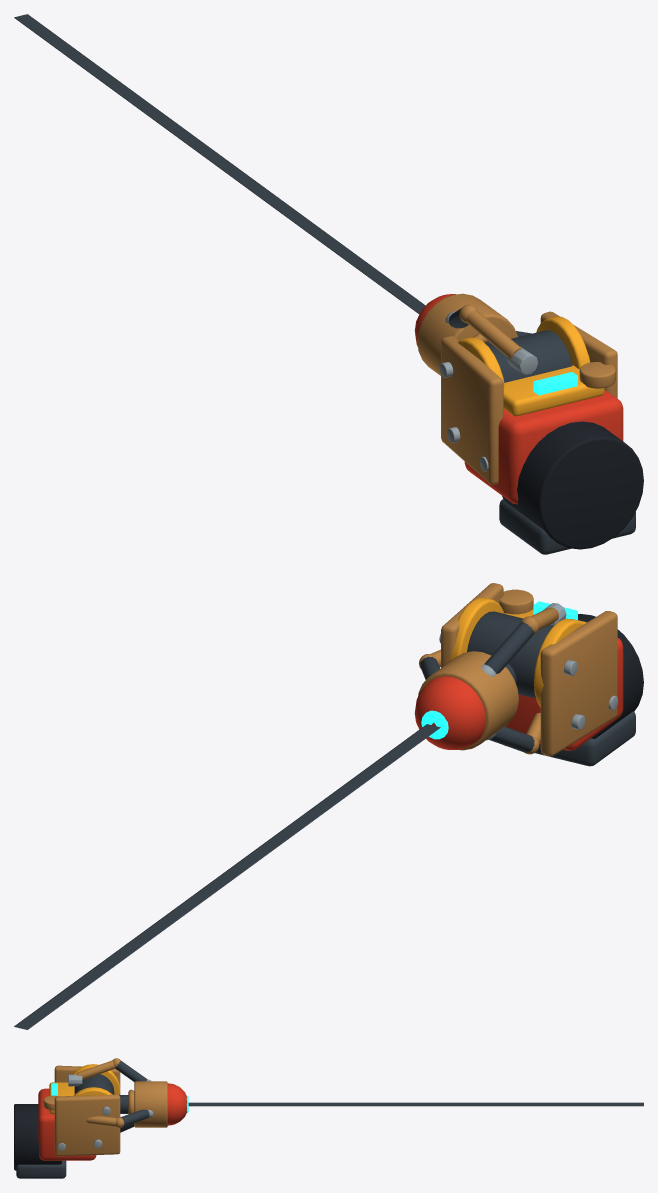
Rendered from claw-machine-grapple-preview.glb.
3 renders of one model, top to bottom at view 1: azimuth 30°, elevation 25°; view 2: azimuth 150°, elevation 25°; view 3: azimuth 270°, elevation 25°, orthographic. The views are drawn at different scales.
Visible parts, largest first — view 1: GrappleV1_Launcher_Cuff, GrappleV1_Launcher_Cheek_L, GrappleV1_Preview_Cable, GrappleV1_Launcher_Housing, GrappleV1_Claw_HubShell, GrappleV1_Launcher_TopPlate, GrappleV1_Launcher_Drum, GrappleV1_Launcher_Underbrace, GrappleV1_Launcher_DrumFlange_R, GrappleV1_Launcher_Cheek_R, GrappleV1_Claw_JawHook_2, GrappleV1_Launcher_AdjustDial; view 2: GrappleV1_Launcher_Cheek_L, GrappleV1_Preview_Cable, GrappleV1_Claw_HubCap, GrappleV1_Claw_HubShell, GrappleV1_Launcher_Drum, GrappleV1_Launcher_Underbrace, GrappleV1_Launcher_Housing, GrappleV1_Launcher_Cuff, GrappleV1_Launcher_DrumFlange_R, GrappleV1_Launcher_Cheek_R, GrappleV1_Claw_JawUpper_2, GrappleV1_Launcher_DrumFlange_L (+2 smaller); view 3: GrappleV1_Launcher_Cheek_R, GrappleV1_Preview_Cable, GrappleV1_Launcher_Cuff, GrappleV1_Claw_HubShell, GrappleV1_Launcher_Housing, GrappleV1_Launcher_Underbrace, GrappleV1_Claw_HubCap, GrappleV1_Launcher_Drum, GrappleV1_Launcher_Cheek_L, GrappleV1_Claw_JawHook_2, GrappleV1_Launcher_DrumFlange_L, GrappleV1_Claw_JawUpper_2 (+4 smaller).
Part boxes in pixels (x1,y1,x2,y2): GrappleV1_Launcher_Cuff: (502, 421, 643, 549); GrappleV1_Launcher_Cheek_L: (441, 336, 503, 484); GrappleV1_Preview_Cable: (14, 14, 425, 314); GrappleV1_Launcher_Housing: (464, 390, 623, 504); GrappleV1_Claw_HubShell: (417, 293, 517, 375); GrappleV1_Launcher_TopPlate: (503, 365, 604, 416); GrappleV1_Launcher_Drum: (487, 330, 572, 382); GrappleV1_Launcher_Underbrace: (499, 499, 635, 554); GrappleV1_Launcher_DrumFlange_R: (536, 316, 590, 369); GrappleV1_Launcher_Cheek_R: (540, 311, 617, 398); GrappleV1_Claw_JawHook_2: (466, 310, 521, 358); GrappleV1_Launcher_AdjustDial: (579, 362, 615, 388); GrappleV1_Launcher_Cheek_L: (540, 611, 617, 756); GrappleV1_Preview_Cable: (14, 724, 440, 1029); GrappleV1_Claw_HubCap: (414, 676, 486, 749); GrappleV1_Claw_HubShell: (418, 651, 518, 750); GrappleV1_Launcher_Drum: (467, 611, 553, 698); GrappleV1_Launcher_Underbrace: (505, 711, 635, 766); GrappleV1_Launcher_Housing: (505, 638, 623, 750); GrappleV1_Launcher_Cuff: (578, 614, 643, 738); GrappleV1_Launcher_DrumFlange_R: (449, 598, 503, 661); GrappleV1_Launcher_Cheek_R: (441, 583, 503, 667); GrappleV1_Claw_JawUpper_2: (484, 622, 534, 673); GrappleV1_Launcher_DrumFlange_L: (534, 618, 583, 707); GrappleV1_Launcher_Cheek_R: (54, 1094, 120, 1156); GrappleV1_Preview_Cable: (188, 1102, 643, 1106); GrappleV1_Launcher_Cuff: (14, 1104, 61, 1170); GrappleV1_Claw_HubShell: (134, 1081, 167, 1127); GrappleV1_Launcher_Housing: (38, 1088, 96, 1160); GrappleV1_Launcher_Underbrace: (16, 1160, 66, 1178); GrappleV1_Claw_HubCap: (167, 1083, 188, 1125); GrappleV1_Launcher_Drum: (74, 1074, 114, 1094); GrappleV1_Launcher_Cheek_L: (54, 1065, 120, 1094); GrappleV1_Claw_JawHook_2: (76, 1060, 115, 1079); GrappleV1_Launcher_DrumFlange_L: (72, 1064, 120, 1094); GrappleV1_Claw_JawUpper_2: (115, 1061, 147, 1081).
Bounding box in the file's own units: 0.1621 × 0.1995 × 1.13.
